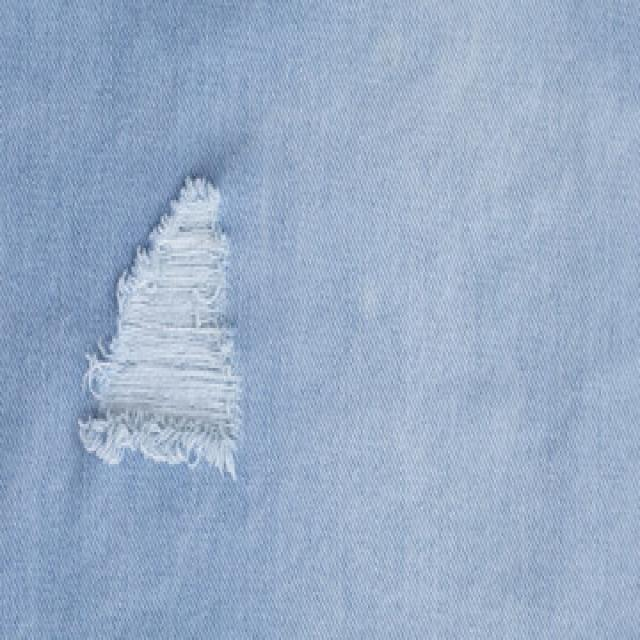Hole: (78, 176, 240, 477)
